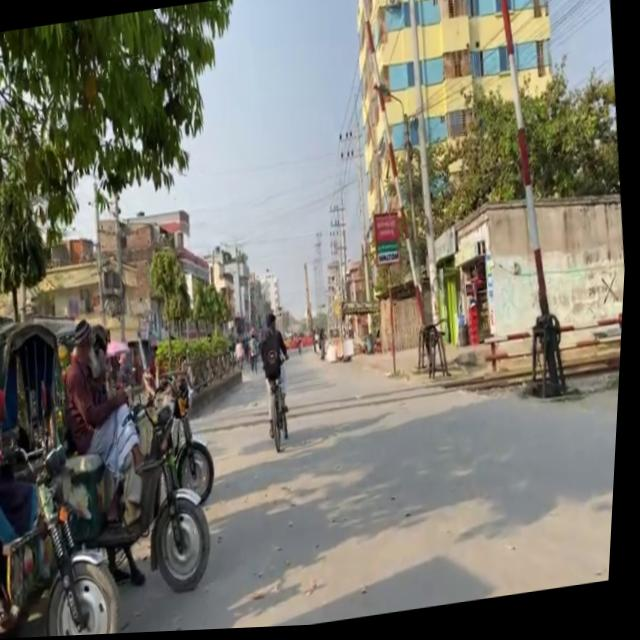Construction-barrier: (190, 356, 625, 437), (350, 317, 626, 411), (445, 357, 625, 398), (485, 319, 626, 350), (486, 338, 625, 368), (187, 369, 250, 415)
Fallen-tree: (146, 368, 226, 513)
Garbage: (527, 316, 576, 404), (415, 321, 457, 385)
Light-pole: (474, 0, 584, 404)
Traffic-cone: (0, 293, 286, 640)
